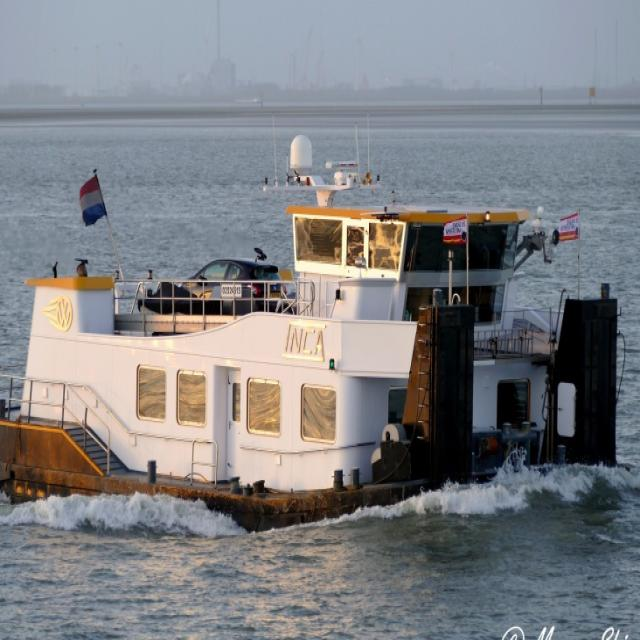tugboat: (1, 127, 630, 544)
